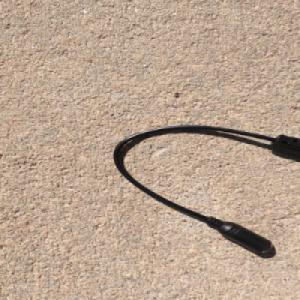Wire: (110, 122, 300, 254)
